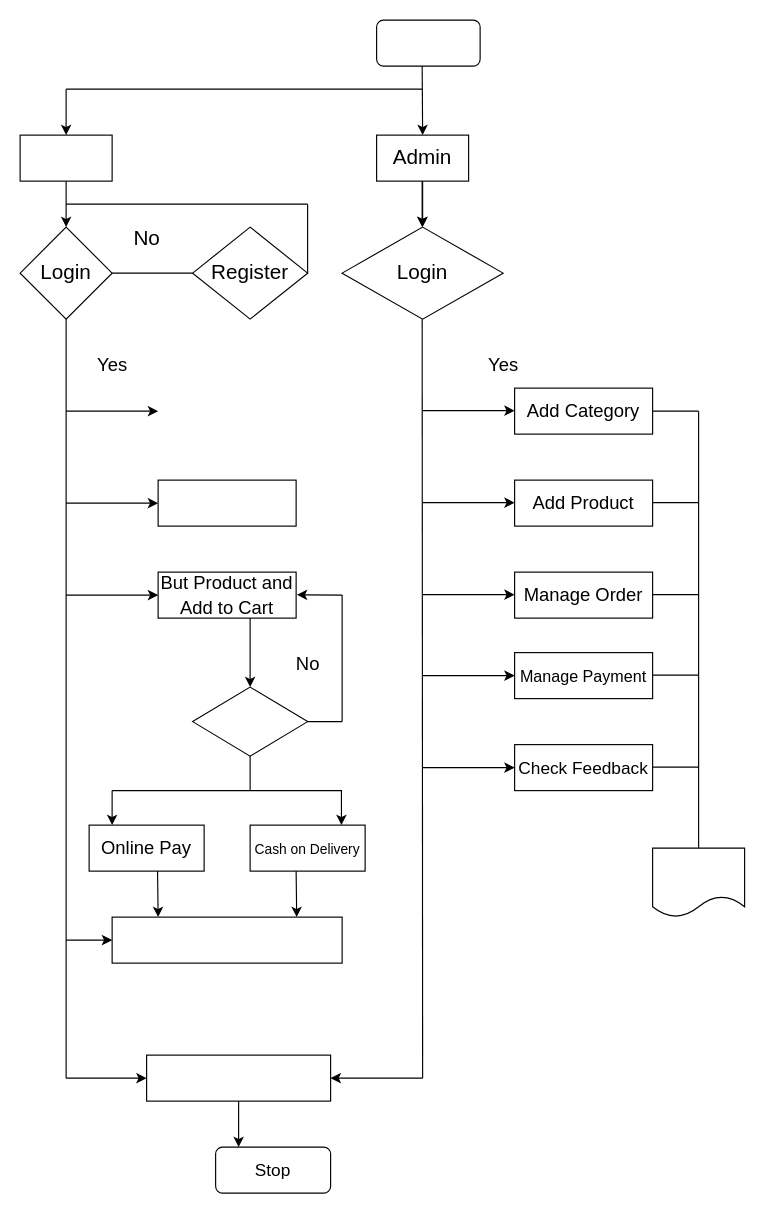
Some shapes in this 765 by 1213 pixel diagram are drawn without their labels. Here are the shapes that lost their labels. From the top down, the box of each, then its label:
(375, 19, 480, 66): Start
(19, 134, 112, 181): User
(157, 479, 296, 526): View Product
(191, 686, 308, 756): Payment
(651, 847, 745, 917): Reports
(111, 916, 342, 963): Order Placed
(145, 1054, 331, 1101): Logout
